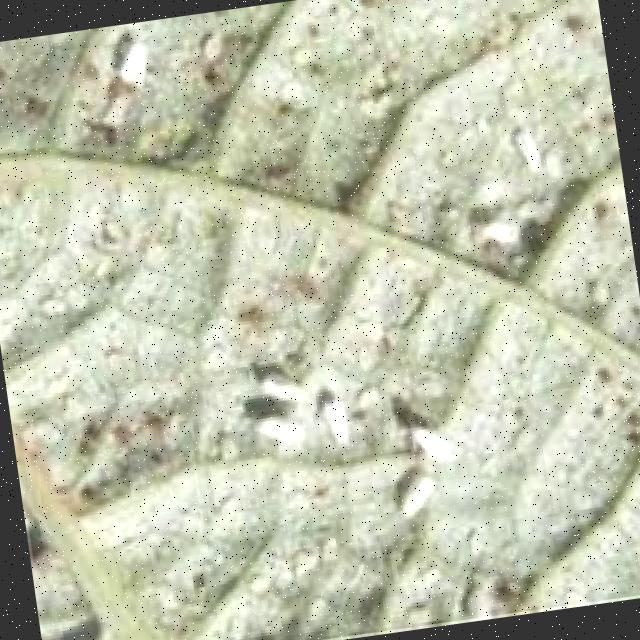whitefly: (57, 0, 638, 601)
